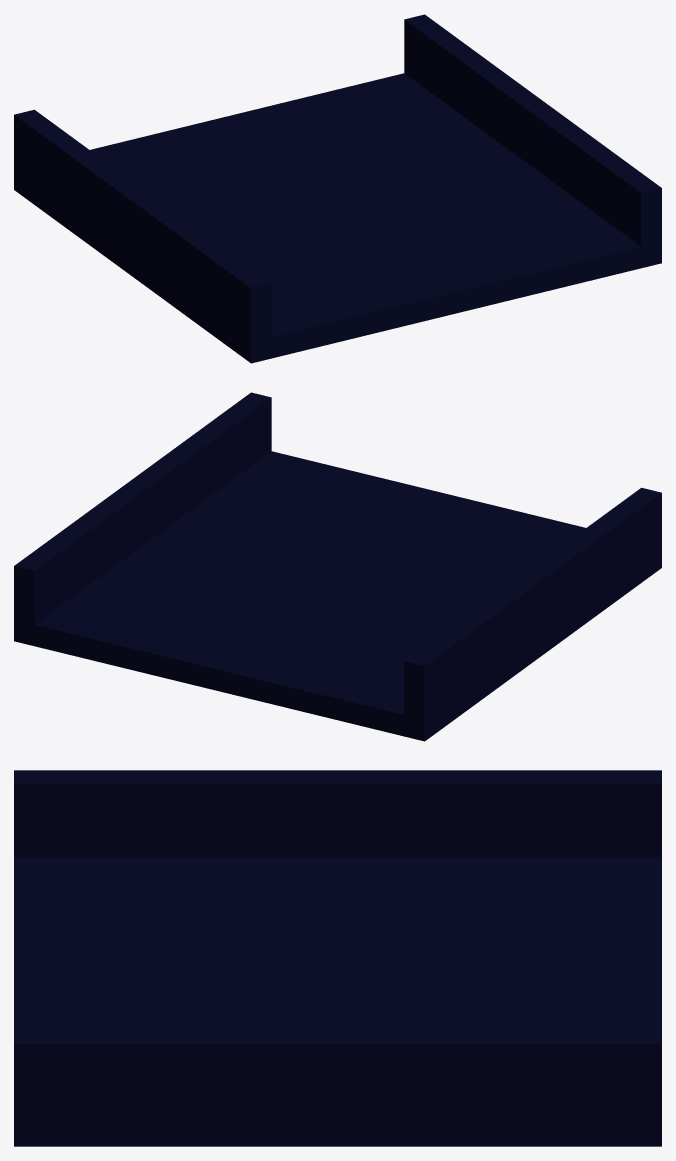
The model's file is NavyRoof_2Edges.glb.
3 views of the same model, one above another, from view 1: azimuth 30°, elevation 25°; view 2: azimuth 150°, elevation 25°; view 3: azimuth 270°, elevation 25° (orthographic). The views are drawn at different scales.
Parts seen in each view (by area): view 1: roof_flat_2Edges_navy; view 2: roof_flat_2Edges_navy; view 3: roof_flat_2Edges_navy.
Boxes of the visible parts, x1,y1,x2,y2 form: roof_flat_2Edges_navy: (14,14,661,363); roof_flat_2Edges_navy: (14,392,661,741); roof_flat_2Edges_navy: (14,770,661,1146).
Size of what is drawn, in the model's own units: 4 by 0.7 by 4.
1 material, 1 textured.
